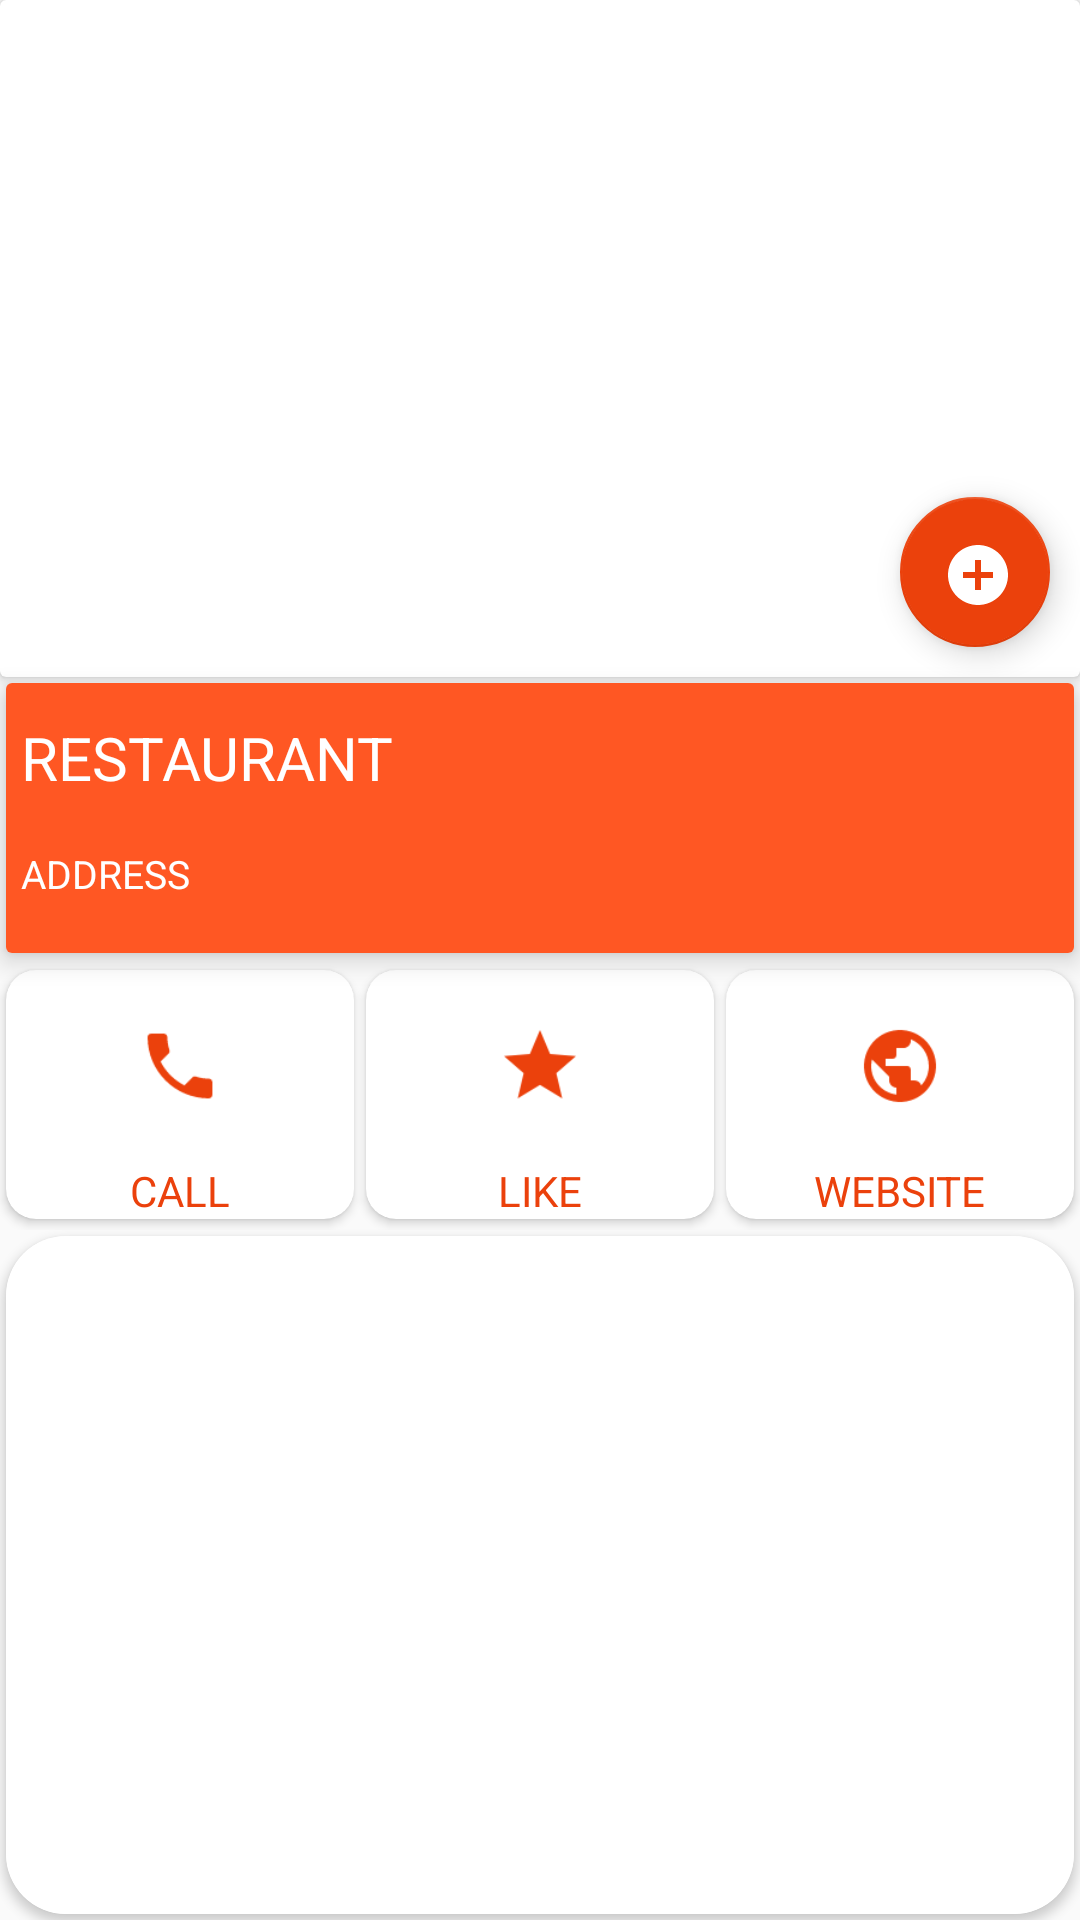

Where to tap for icons on this 1080w x 1920h app screen, as (x=x, y=y):
add: (x=975, y=572)
